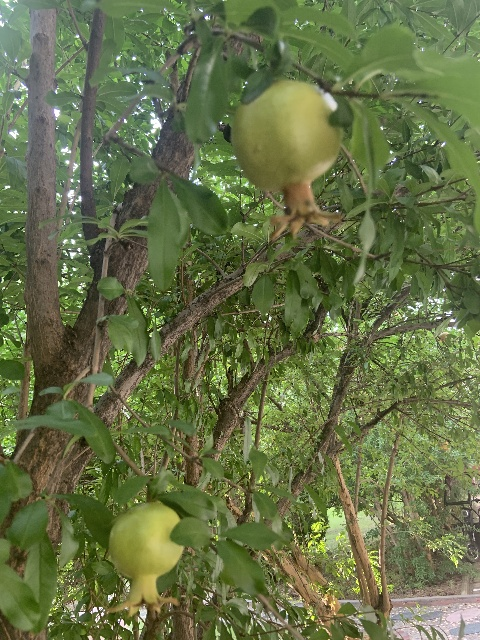mid-growth: (230, 79, 345, 242), (104, 501, 187, 619)
